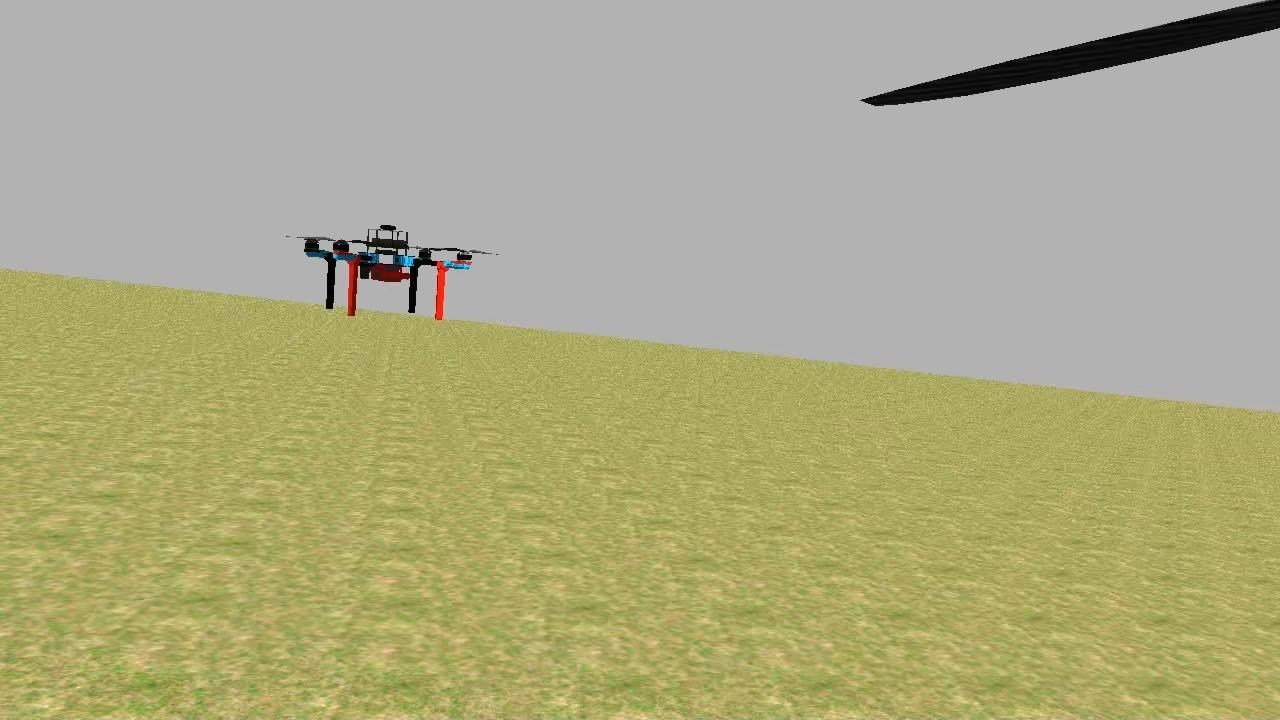UAV: (296, 213, 484, 333)
